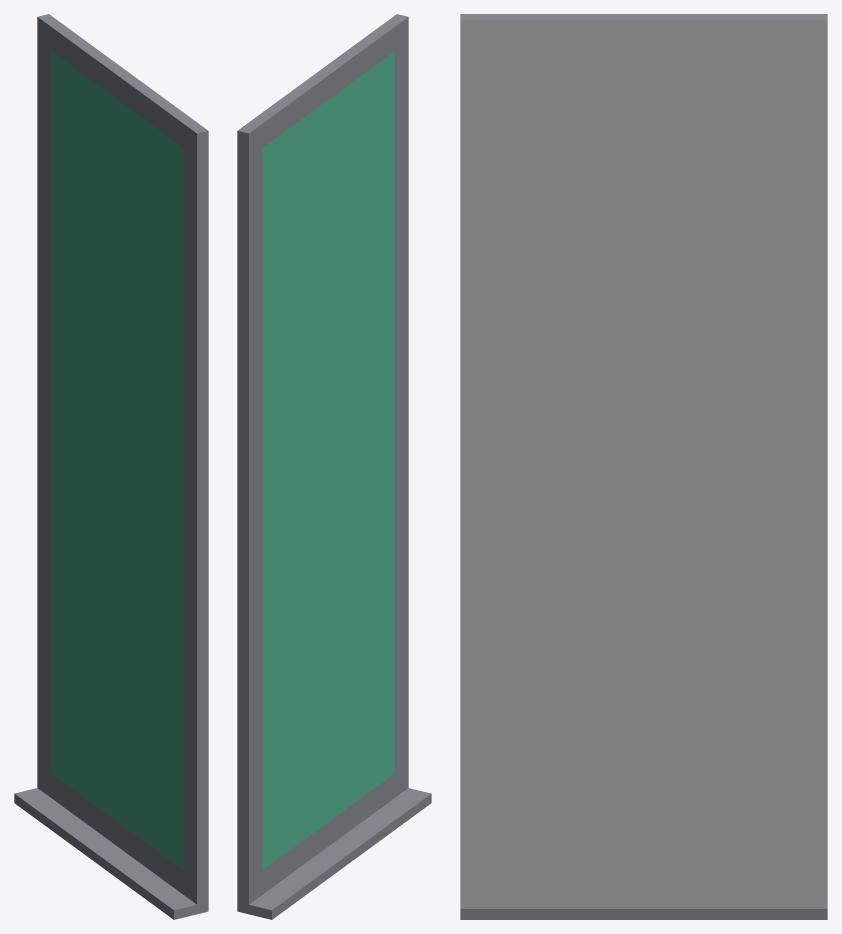
Rendered from sign_billboard.fbx.
3 views of the same model, side by side, from view 1: azimuth 30°, elevation 25°; view 2: azimuth 150°, elevation 25°; view 3: azimuth 270°, elevation 25° (orthographic). The views are drawn at different scales.
Visible parts, largest first — view 1: sign_billboard; view 2: sign_billboard; view 3: sign_billboard.
Boxes of the visible parts, bbox=[...] form: sign_billboard: bbox=[14, 14, 208, 919]; sign_billboard: bbox=[237, 14, 431, 919]; sign_billboard: bbox=[460, 14, 827, 919].
Bounding box in the file's own units: 0.75 × 16.2 × 6.
